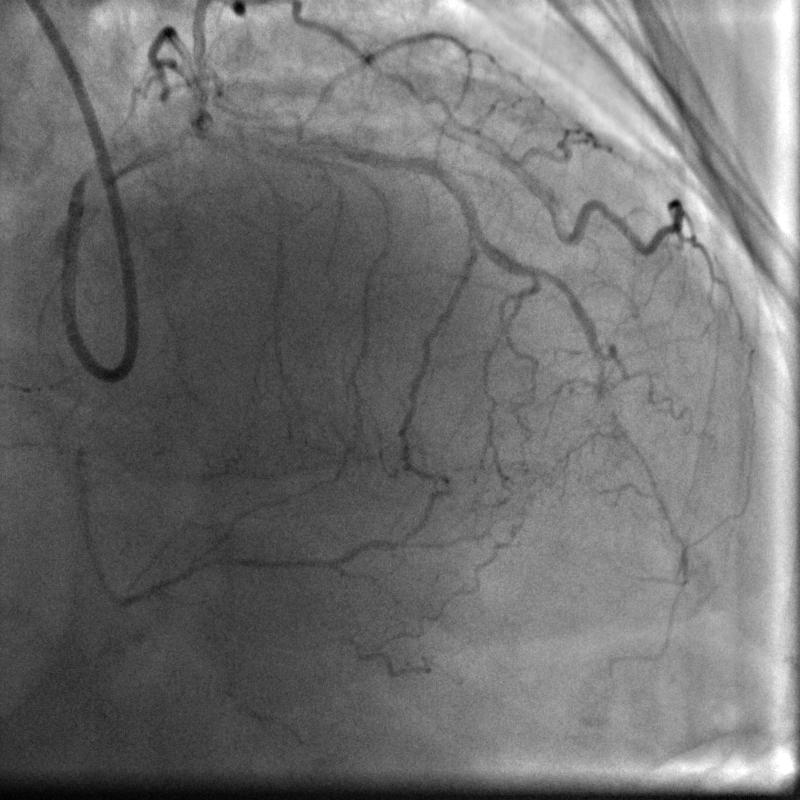Stenosis: (177, 108, 208, 143)
